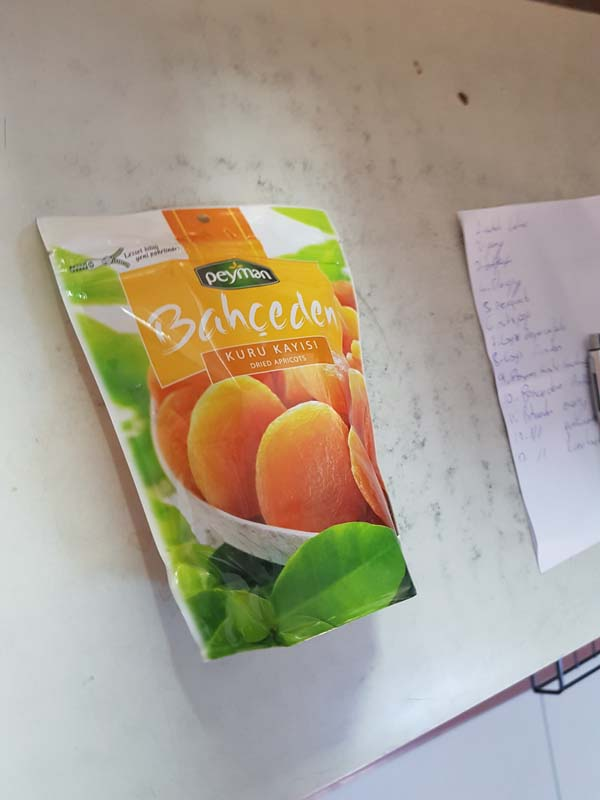bahcedenkurukayisi: (31, 195, 423, 670)
